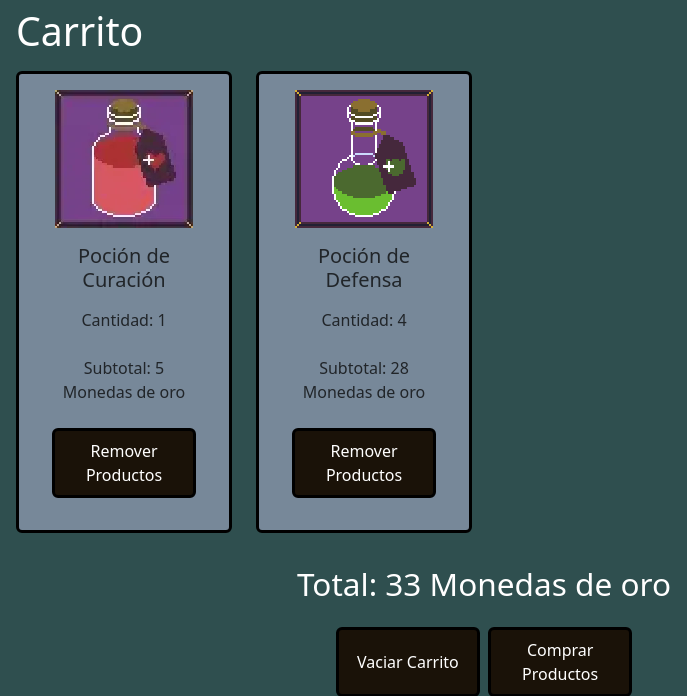
Test: Cart Page › vacía todo el carrito con Vaciar Carrito
The image size is (687, 696).
Click the button "Vaciar Carrito".
click(408, 662)  # box x1=336 y1=627 x2=480 y2=695
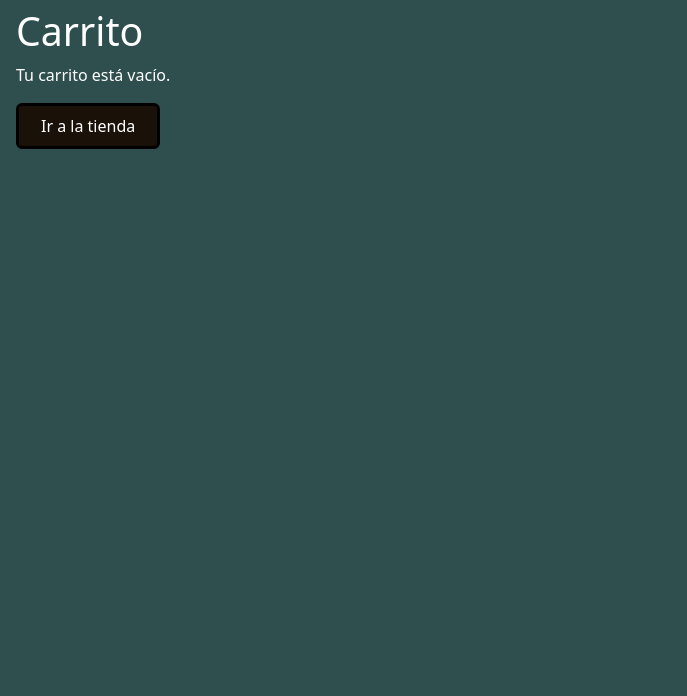
Expected: the text "Tu carrito está vacío." is shown, x1=16 y1=64 x2=170 y2=86
